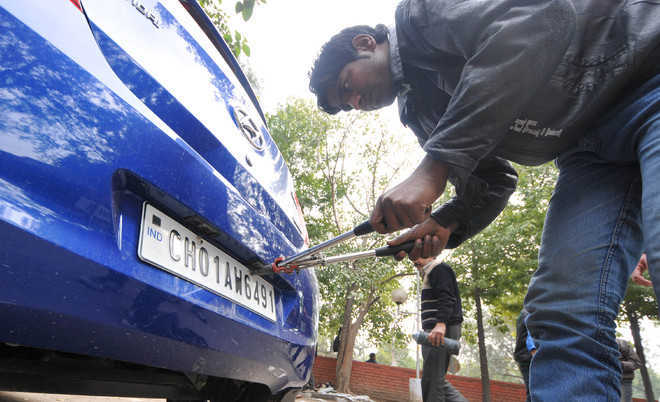number_plate: (134, 196, 283, 324)
